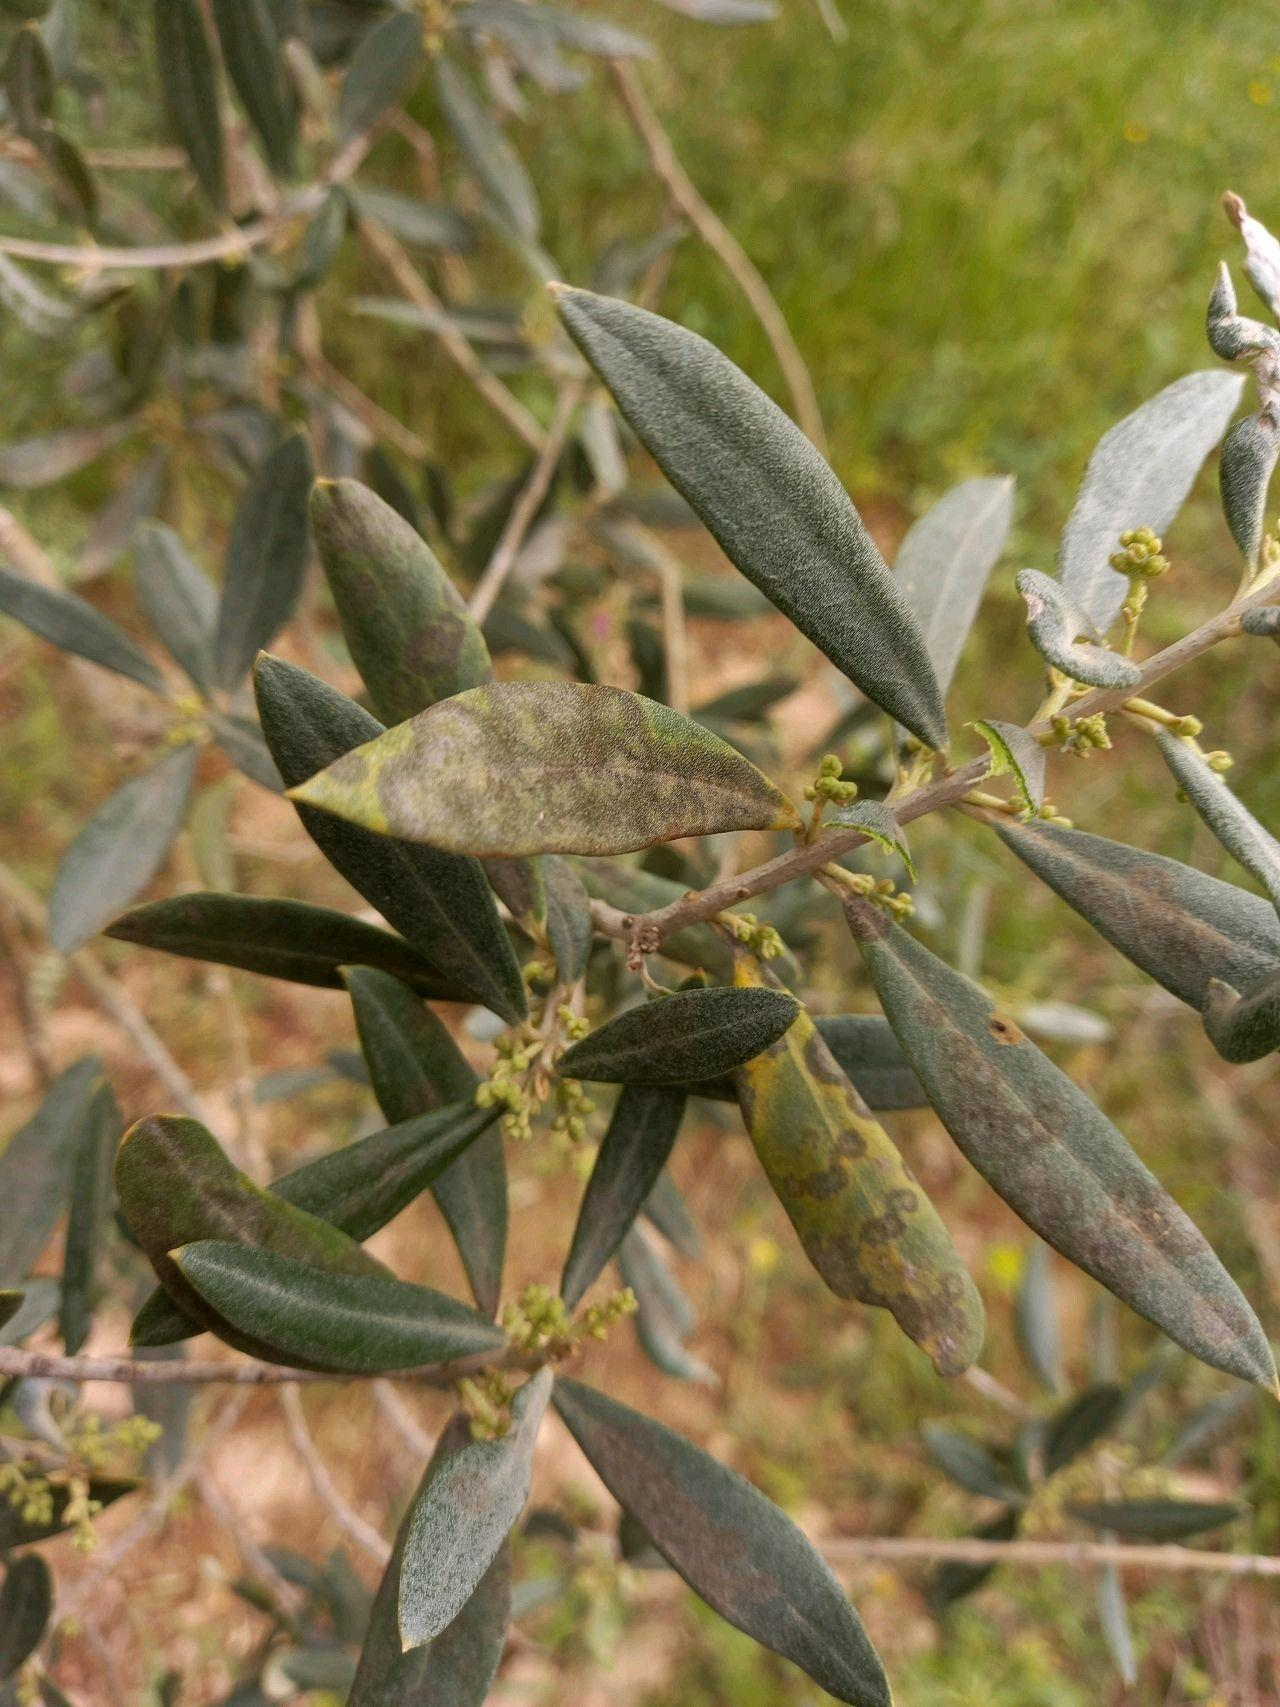OlivePeacockSpot: (848, 901, 1280, 1398), (308, 477, 551, 930), (555, 1387, 883, 1703), (754, 991, 961, 1422), (253, 675, 520, 1007), (308, 684, 820, 856), (117, 1113, 433, 1337), (986, 805, 1275, 1015), (343, 968, 515, 1316), (398, 1371, 558, 1660), (102, 887, 457, 1003), (363, 1513, 519, 1703), (558, 1091, 684, 1297), (578, 997, 792, 1087)
